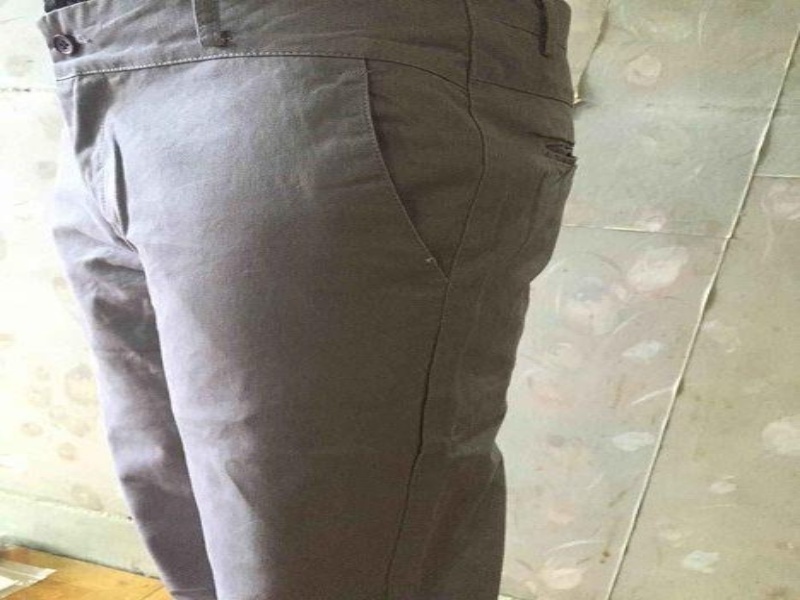trousers: (26, 0, 579, 599)
